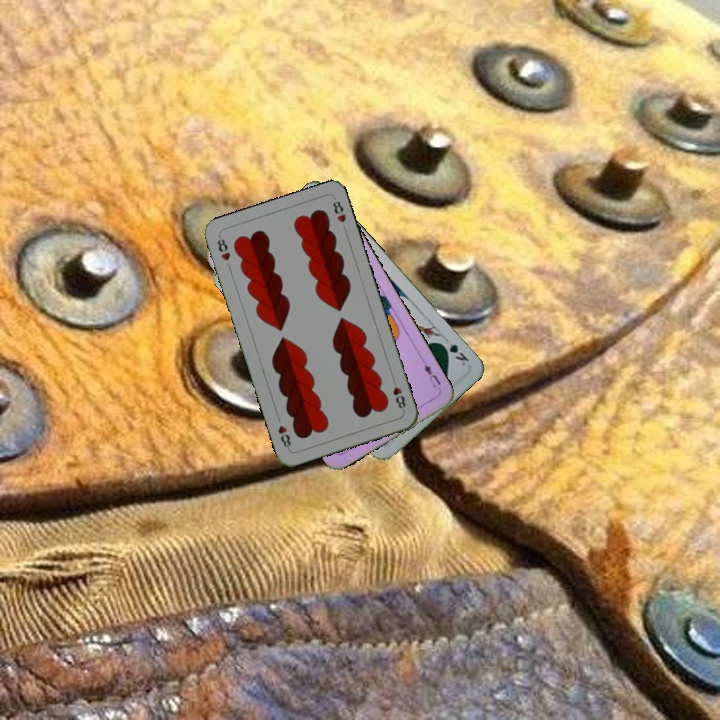EU: (418, 356, 443, 390)
GK: (437, 337, 472, 368)
H8: (388, 374, 408, 414), (213, 233, 233, 264)
